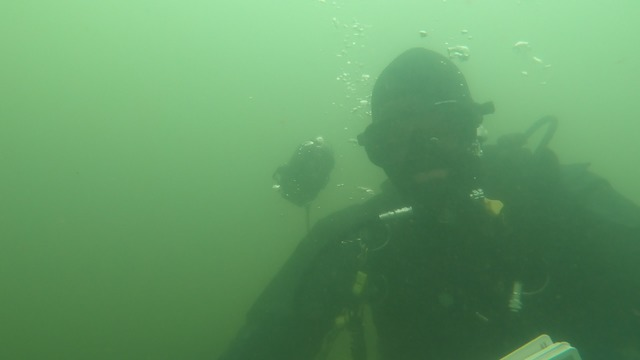Head: (331, 42, 523, 252)
